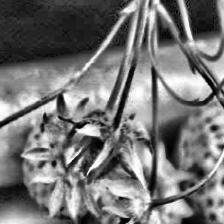Gray Mold: (58, 92, 152, 190)
